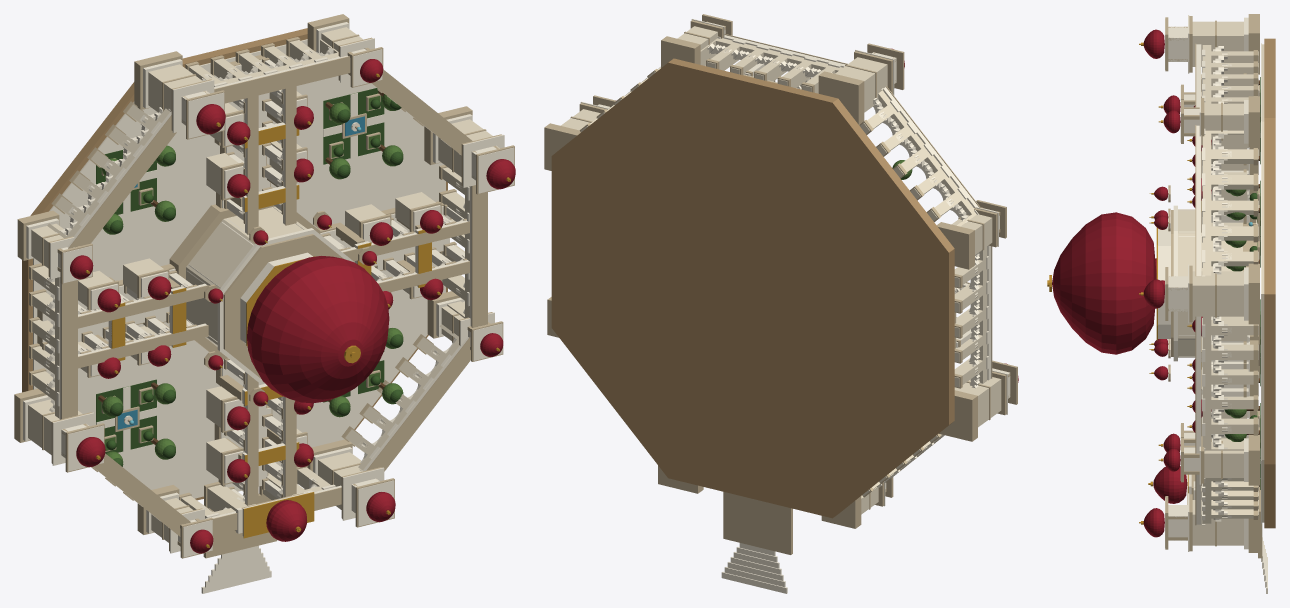
Rendered from arabian_palace_v10.obj.
The picture shows the model from 3 angles, left to right: view 1: azimuth 30°, elevation 25°; view 2: azimuth 150°, elevation 25°; view 3: azimuth 270°, elevation 25°; orthographic projection. The views are drawn at different scales.
Visible parts, largest first — view 1: Thin_ivory_foundation_trim, Great_central_crimson_dome, Central_keep_main_body, Main_sandstone_foundation, Central_keep_roof_terrace, Outer_wall_stone_roof_trim_7, Outer_wall_stone_roof_trim_3, Outer_wall_stone_roof_trim, Outer_wall_stone_roof_trim_4, Outer_wall_stone_roof_trim_2, Outer_wall_stone_roof_trim_1, Outer_wall_stone_roof_trim_5 (+42 smaller); view 2: Main_sandstone_foundation, Gate_entrance_landing, Main_tower_3_sandstone_base, Main_tower_3_shaft, Main_tower_5_sandstone_base, Secondary_tower_4_sandstone_base, Main_tower_5_shaft, Secondary_tower_2_sandstone_base, Main_tower_1_sandstone_base, Secondary_tower_4_shaft, Outer_wall_upper_band_3, Secondary_tower_6_sandstone_base (+1 smaller); view 3: Great_central_crimson_dome, Main_sandstone_foundation, Central_keep_main_body, Main_tower_1_shaft, Main_tower_3_shaft, Main_ivory_foundation, Main_tower_7_shaft, Secondary_tower_2_shaft, Secondary_tower_8_shaft, Great_dome_ivory_drum, Gate_crimson_dome, Outer_wall_upper_band_1 (+36 smaller).
Part boxes in pixels (x1,y1,x2,y2): Thin_ivory_foundation_trim: (33, 39, 445, 498); Great_central_crimson_dome: (247, 256, 389, 403); Central_keep_main_body: (186, 206, 306, 346); Main_sandstone_foundation: (22, 28, 447, 500); Central_keep_roof_terrace: (223, 234, 343, 378); Outer_wall_stone_roof_trim_7: (366, 337, 470, 471); Outer_wall_stone_roof_trim_3: (68, 115, 176, 248); Outer_wall_stone_roof_trim: (471, 185, 487, 327); Outer_wall_stone_roof_trim_4: (61, 280, 77, 419); Outer_wall_stone_roof_trim_2: (214, 56, 350, 103); Outer_wall_stone_roof_trim_1: (371, 69, 472, 155); Outer_wall_stone_roof_trim_5: (93, 453, 190, 536); Main_sandstone_foundation: (551, 58, 954, 518); Gate_entrance_landing: (723, 492, 792, 554); Main_tower_3_sandstone_base: (818, 71, 864, 125); Main_tower_3_shaft: (835, 57, 887, 112); Main_tower_5_sandstone_base: (939, 390, 977, 441); Secondary_tower_4_sandstone_base: (936, 222, 974, 269); Main_tower_5_shaft: (954, 377, 1001, 427); Secondary_tower_2_sandstone_base: (661, 36, 700, 67); Main_tower_1_sandstone_base: (544, 123, 580, 170); Secondary_tower_4_shaft: (952, 214, 992, 254); Outer_wall_upper_band_3: (883, 87, 978, 208); Secondary_tower_6_sandstone_base: (821, 496, 861, 528); Great_central_crimson_dome: (1052, 212, 1156, 354); Main_sandstone_foundation: (1264, 38, 1275, 528); Central_keep_main_body: (1178, 209, 1242, 357); Main_tower_1_shaft: (1192, 271, 1243, 316); Main_tower_3_shaft: (1192, 21, 1243, 66); Main_ivory_foundation: (1262, 44, 1264, 522); Main_tower_7_shaft: (1192, 500, 1243, 545); Secondary_tower_2_shaft: (1204, 103, 1243, 139); Secondary_tower_8_shaft: (1204, 442, 1243, 477); Great_dome_ivory_drum: (1158, 228, 1170, 338); Gate_crimson_dome: (1153, 466, 1187, 503); Outer_wall_upper_band_1: (1196, 125, 1201, 275).
Bounding box in the file's own units: 171 × 200 × 80.15.
